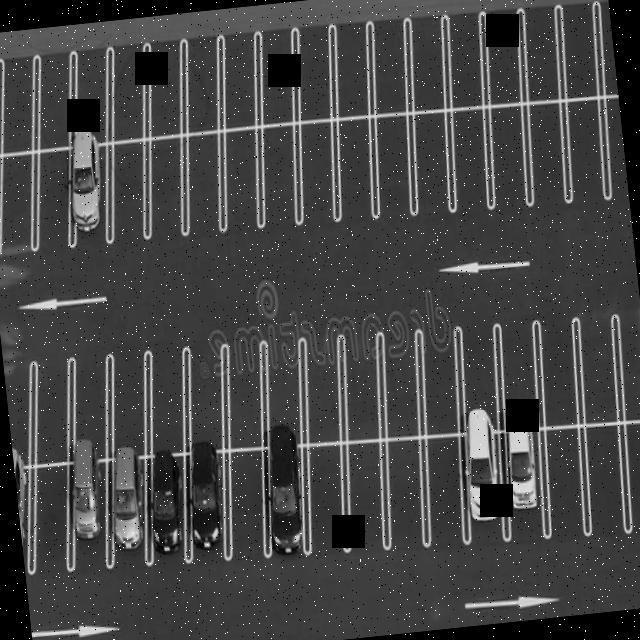car: (54, 446, 124, 576), (134, 434, 199, 564), (450, 418, 517, 542), (254, 433, 317, 564), (178, 441, 240, 562), (98, 448, 160, 566), (60, 143, 125, 250), (499, 418, 554, 540), (12, 452, 48, 572), (0, 154, 8, 253)
free: (334, 439, 397, 554), (573, 418, 638, 529), (478, 94, 540, 210), (438, 100, 502, 212), (537, 418, 598, 534), (399, 106, 465, 212), (413, 434, 475, 546), (373, 432, 435, 544), (294, 441, 356, 552), (252, 339, 316, 445), (364, 106, 424, 218), (374, 322, 434, 433), (517, 98, 578, 206), (554, 95, 614, 204), (333, 333, 391, 444), (292, 342, 357, 441), (358, 17, 420, 118), (570, 317, 628, 424), (216, 343, 274, 448), (179, 340, 236, 446), (212, 123, 270, 227), (174, 136, 236, 232), (143, 344, 200, 448), (492, 322, 552, 420), (511, 5, 572, 101), (104, 351, 164, 448), (286, 128, 344, 227), (27, 359, 84, 459), (532, 319, 587, 422), (472, 10, 532, 104), (252, 25, 306, 129), (64, 359, 122, 454), (327, 120, 382, 220), (414, 325, 466, 430), (288, 25, 344, 119), (142, 136, 195, 234), (64, 48, 119, 142), (451, 326, 508, 416), (328, 18, 380, 116), (438, 17, 494, 106), (400, 18, 455, 108), (552, 10, 604, 98), (0, 147, 38, 252), (616, 422, 640, 533)
